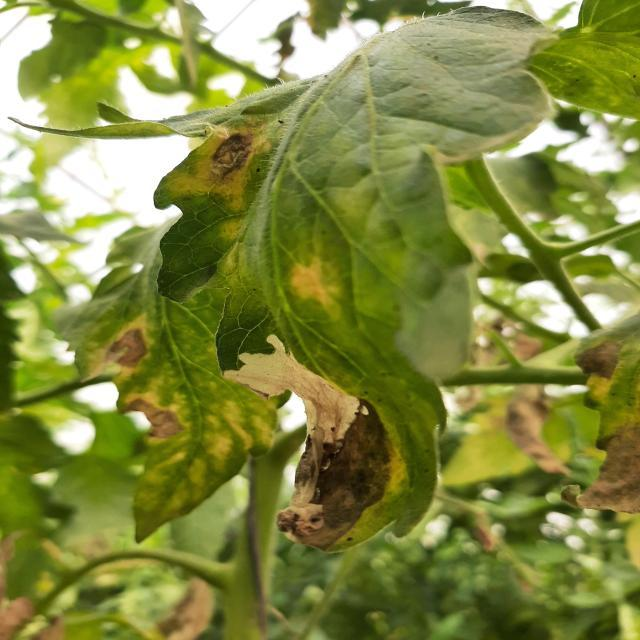Tuta absoluta: (221, 323, 367, 455)
